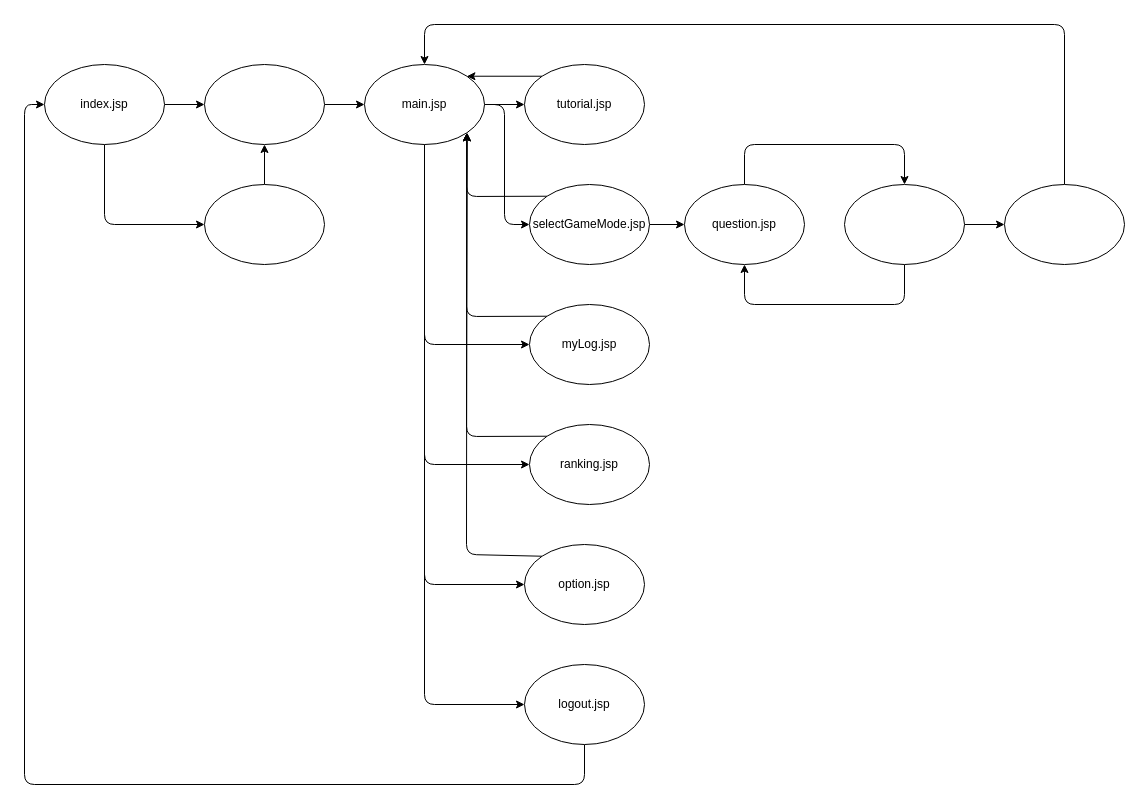
Some shapes in this 1142 by 810 pixel diagram are drawn without their labels. The shapes that lost their labels are listed below. From the top down, each one's centre as x and y in pixels, then its label:
the point at 264,104: loginSuccess.jsp
the point at 264,224: register.jsp
the point at 904,224: answer.jsp
the point at 1064,224: result.jsp
